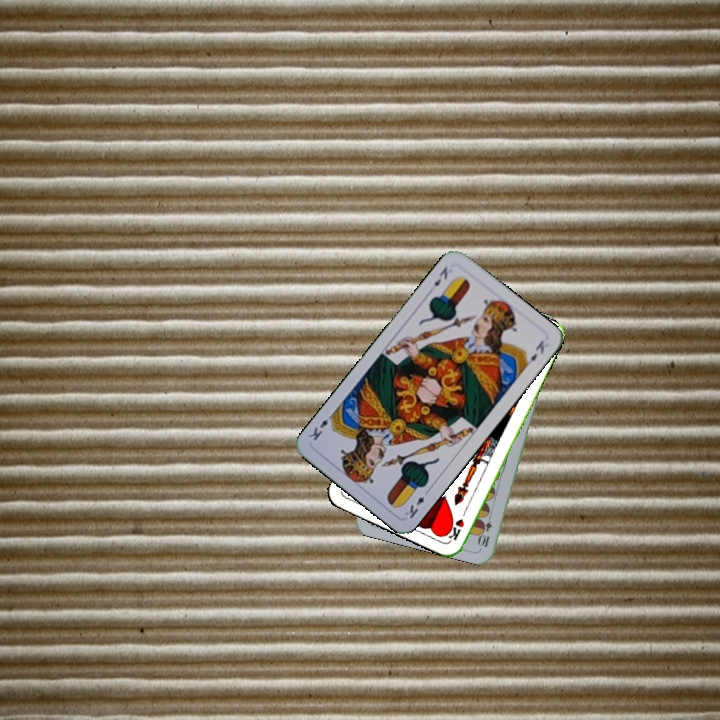E10: (476, 509, 495, 550)
EK: (400, 485, 432, 521), (430, 262, 450, 289)
HK: (444, 504, 470, 543)
